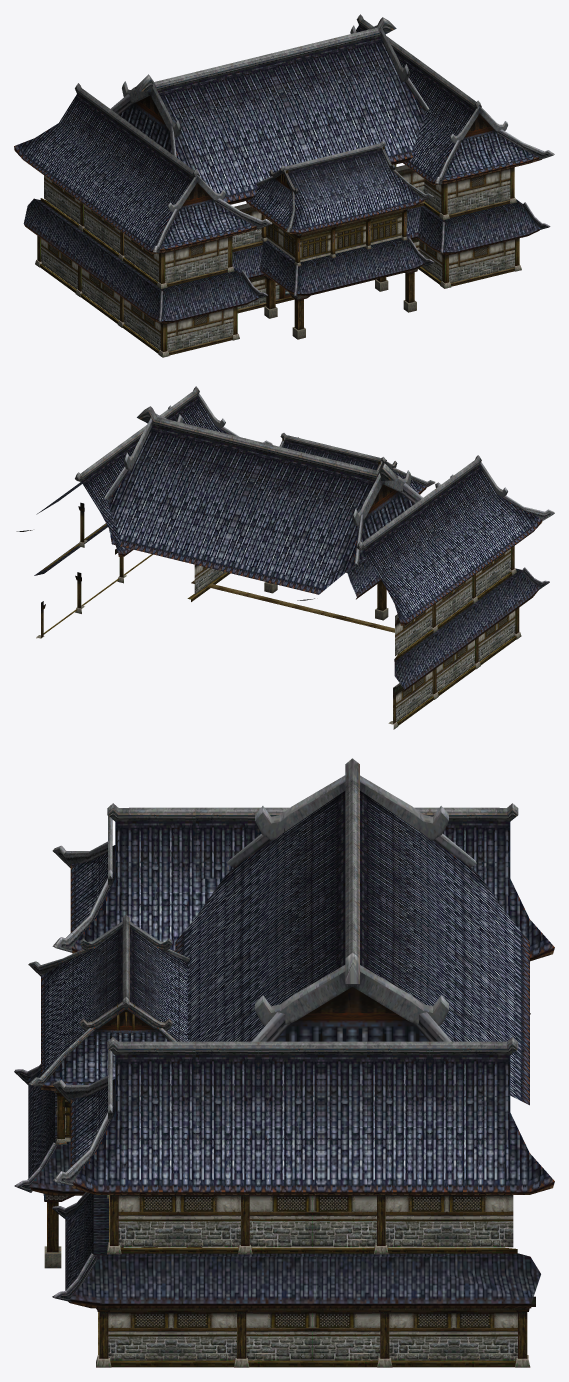
The model's file is b1-006-castle01.glb.
The picture shows the model from 3 angles, top to bottom: view 1: azimuth 30°, elevation 25°; view 2: azimuth 150°, elevation 25°; view 3: azimuth 270°, elevation 25°; orthographic projection. The views are drawn at different scales.
Parts seen in each view (by area): view 1: b1-006-castle-02, b1-006-castle-04, b1-006-castle-01, b1-006-castle-03, b1-006-castle-05; view 2: b1-006-castle-02, b1-006-castle-04, b1-006-castle-01, b1-006-castle-03, b1-006-castle-05; view 3: b1-006-castle-02, b1-006-castle-04, b1-006-castle-01, b1-006-castle-03, b1-006-castle-05.
Part boxes in pixels (<box>): b1-006-castle-02: <box>14,14,541,266</box>; b1-006-castle-04: <box>35,164,550,357</box>; b1-006-castle-01: <box>23,198,540,322</box>; b1-006-castle-03: <box>110,25,554,262</box>; b1-006-castle-05: <box>264,268,417,339</box>; b1-006-castle-02: <box>16,386,542,625</box>; b1-006-castle-04: <box>36,502,549,729</box>; b1-006-castle-01: <box>34,523,540,692</box>; b1-006-castle-03: <box>104,393,554,568</box>; b1-006-castle-05: <box>264,581,388,620</box>; b1-006-castle-02: <box>28,758,554,1194</box>; b1-006-castle-04: <box>14,1013,535,1367</box>; b1-006-castle-01: <box>28,1070,540,1308</box>; b1-006-castle-03: <box>52,775,476,1186</box>; b1-006-castle-05: <box>43,1194,157,1268</box>.
Size of the model in its own units: 30.4 by 15.42 by 20.84.
Materials: 5 (5 with a texture image).
